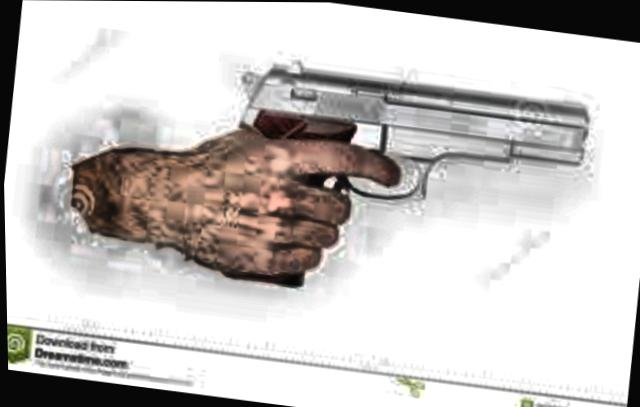pistol: (207, 47, 597, 327)
